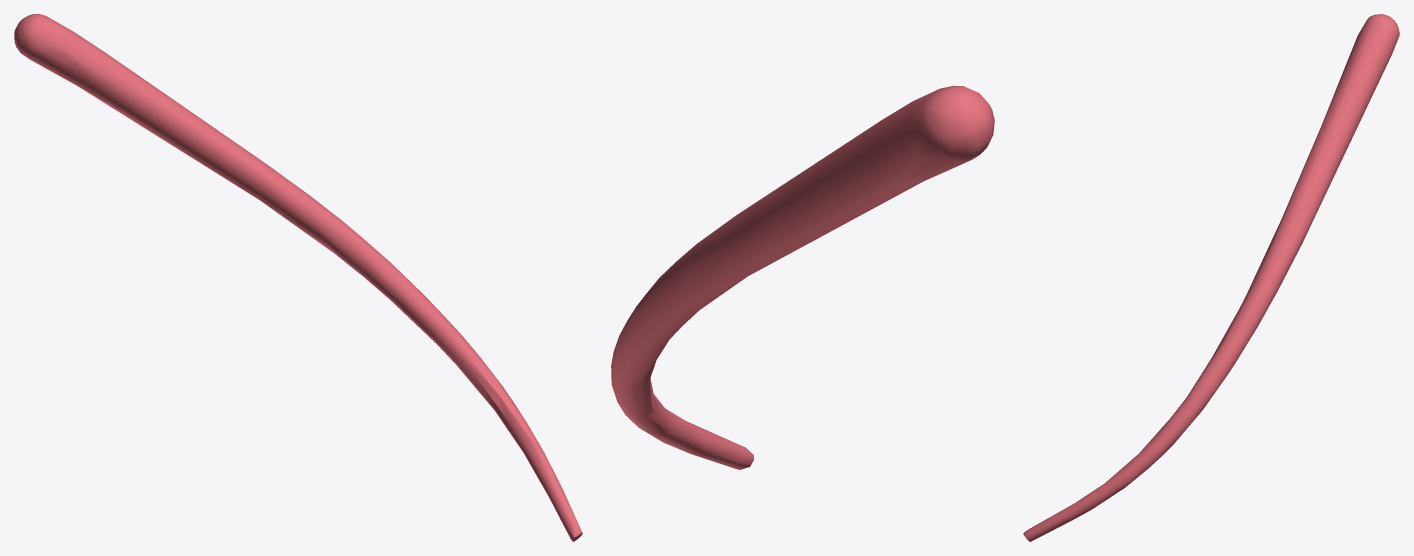
File: fma8678_fj2959.glb
3 renders of one model, left to right at view 1: azimuth 30°, elevation 25°; view 2: azimuth 150°, elevation 25°; view 3: azimuth 270°, elevation 25°, orthographic. The views are drawn at different scales.
Visible parts, largest first — view 1: FMA8678_FJ2959; view 2: FMA8678_FJ2959; view 3: FMA8678_FJ2959.
Part boxes in pixels (x1,y1,x2,y2): FMA8678_FJ2959: (14, 14, 582, 541); FMA8678_FJ2959: (611, 85, 994, 469); FMA8678_FJ2959: (1023, 14, 1399, 541).
Bounding box in the file's own units: 0.0445 × 0.0536 × 0.0471.
